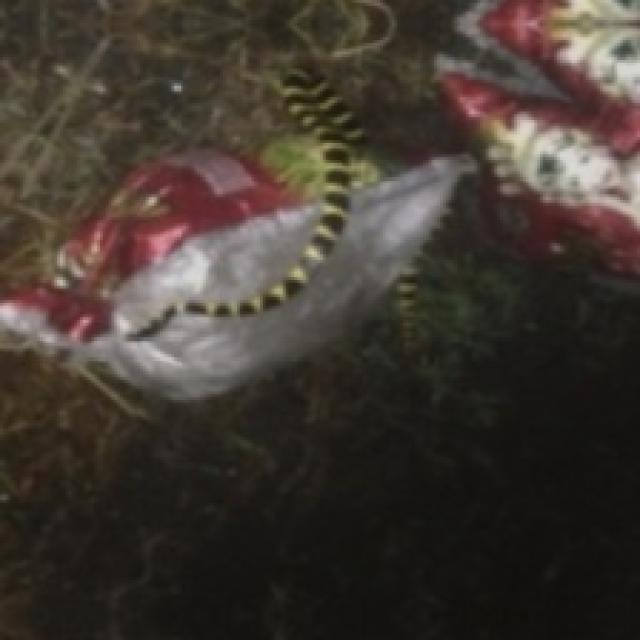mangrove cat snake: (130, 69, 364, 337)
